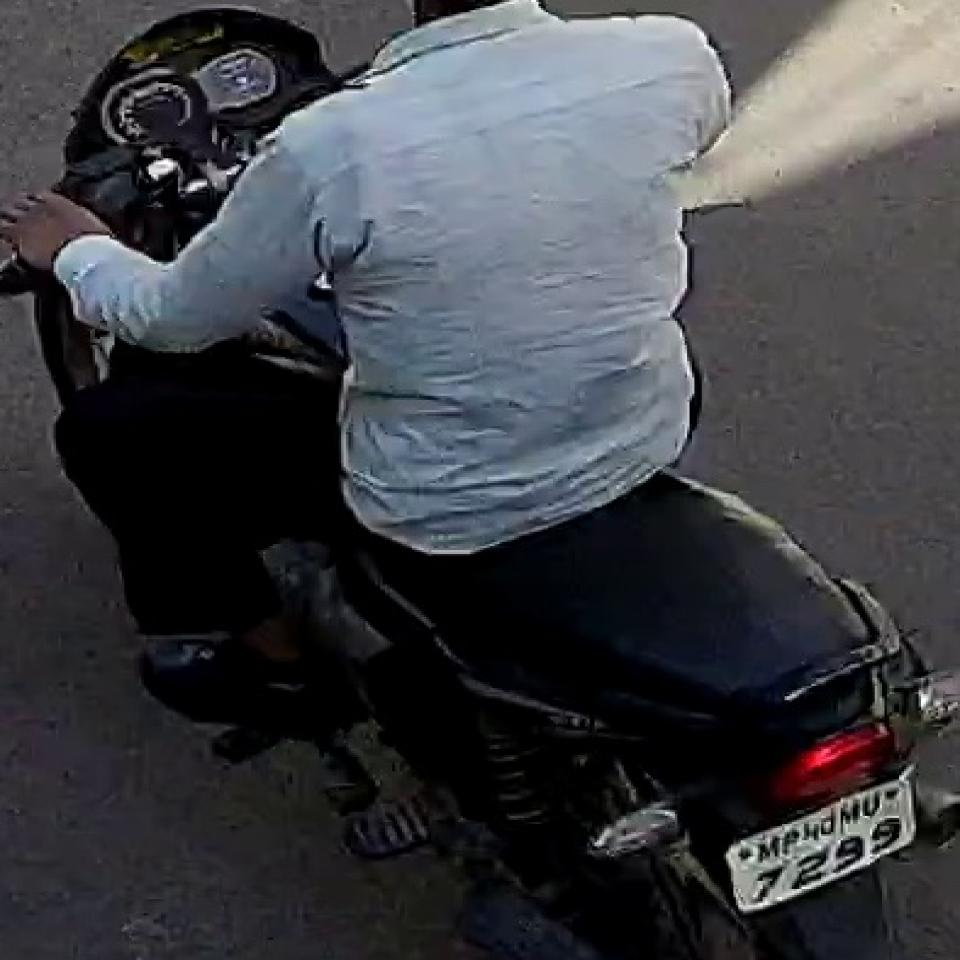tail_light: (768, 720, 899, 817)
